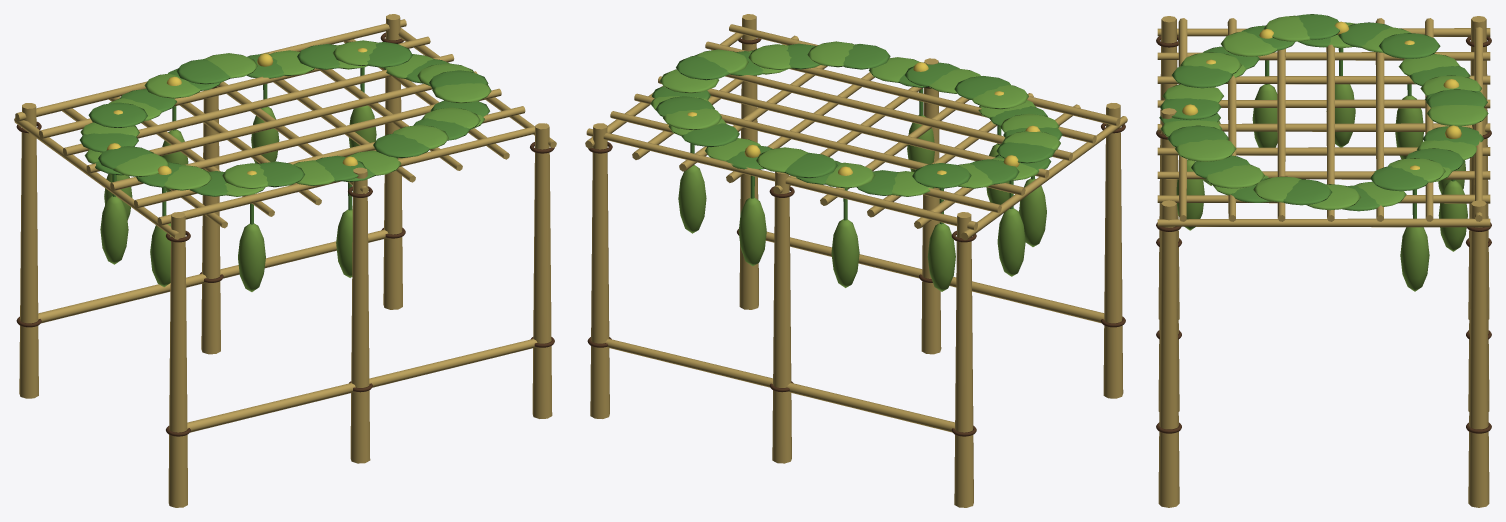
File: LV_GIAN_MUOP_01.glb
3 views of the same model, side by side, from view 1: azimuth 30°, elevation 25°; view 2: azimuth 150°, elevation 25°; view 3: azimuth 270°, elevation 25° (orthographic). The views are drawn at different scales.
Parts seen in each view (by area): view 1: LV_GIAN_MUOP_01-surface-b59b56, gourd-vines-surface-53873a, gourd-vines-surface-6b9c41, gourd-vines-surface-6d943d, LV_GIAN_MUOP_01-surface-50351f, gourd-vines-surface-d8bd4a; view 2: LV_GIAN_MUOP_01-surface-b59b56, gourd-vines-surface-53873a, gourd-vines-surface-6b9c41, gourd-vines-surface-6d943d, LV_GIAN_MUOP_01-surface-50351f, gourd-vines-surface-d8bd4a; view 3: LV_GIAN_MUOP_01-surface-b59b56, gourd-vines-surface-53873a, gourd-vines-surface-6b9c41, gourd-vines-surface-6d943d, LV_GIAN_MUOP_01-surface-50351f, gourd-vines-surface-d8bd4a.
Part boxes in pixels (x1,y1,x2,y2): LV_GIAN_MUOP_01-surface-b59b56: (14, 14, 556, 507); gourd-vines-surface-53873a: (79, 42, 489, 224); gourd-vines-surface-6b9c41: (80, 40, 491, 196); gourd-vines-surface-6d943d: (100, 105, 376, 291); LV_GIAN_MUOP_01-surface-50351f: (16, 32, 554, 436); gourd-vines-surface-d8bd4a: (107, 48, 367, 175); LV_GIAN_MUOP_01-surface-b59b56: (585, 14, 1127, 507); gourd-vines-surface-53873a: (651, 43, 1062, 224); gourd-vines-surface-6b9c41: (650, 41, 1060, 196); gourd-vines-surface-6d943d: (678, 115, 1046, 291); LV_GIAN_MUOP_01-surface-50351f: (587, 38, 1125, 436); gourd-vines-surface-d8bd4a: (687, 62, 1040, 175); LV_GIAN_MUOP_01-surface-b59b56: (1157, 16, 1490, 507); gourd-vines-surface-53873a: (1159, 14, 1487, 218); gourd-vines-surface-6b9c41: (1160, 15, 1488, 210); gourd-vines-surface-6d943d: (1176, 84, 1467, 291); LV_GIAN_MUOP_01-surface-50351f: (1156, 36, 1491, 433); gourd-vines-surface-d8bd4a: (1182, 21, 1461, 169).
Size of the model in its own units: 3.3 by 2.4 by 2.39.
